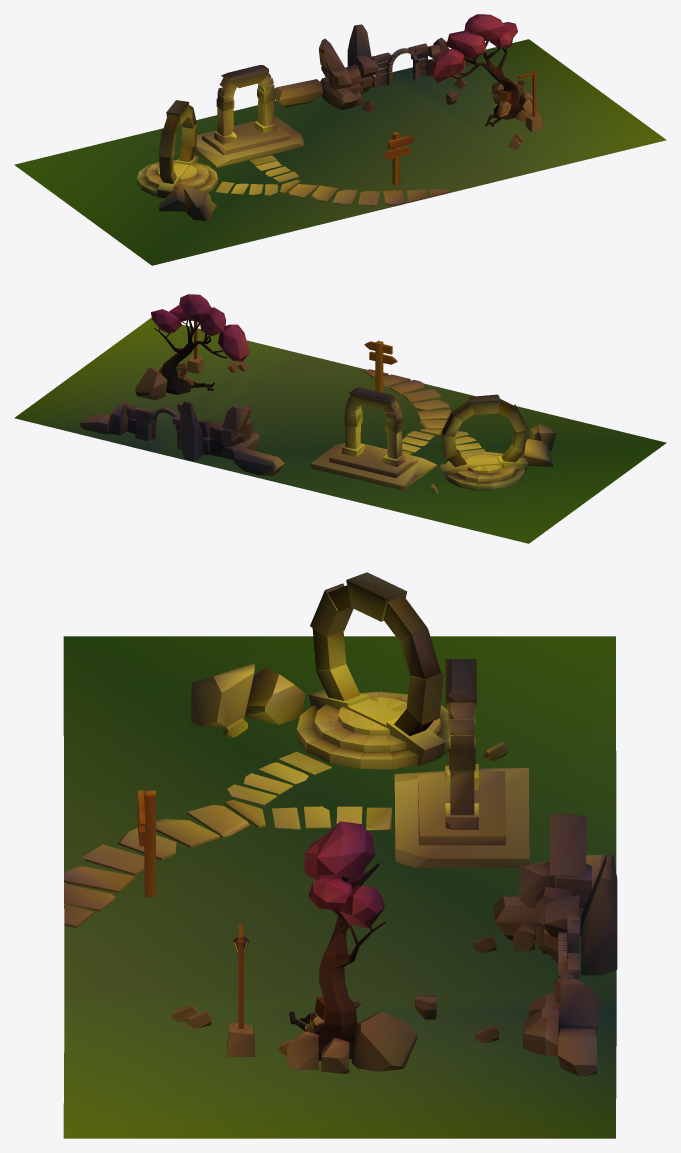
3 views of the same model, one above another, from view 1: azimuth 30°, elevation 25°; view 2: azimuth 150°, elevation 25°; view 3: azimuth 270°, elevation 25° (orthographic). The views are drawn at different scales.
Parts seen in each view (by area): view 1: baked; view 2: baked; view 3: baked.
Part boxes in pixels (left/top/right/bottom): baked: left=14, top=14, right=666, bottom=265; baked: left=14, top=294, right=666, bottom=543; baked: left=63, top=572, right=617, bottom=1138.
Size of the model in its own units: 33.91 by 6.4 by 15.79.
